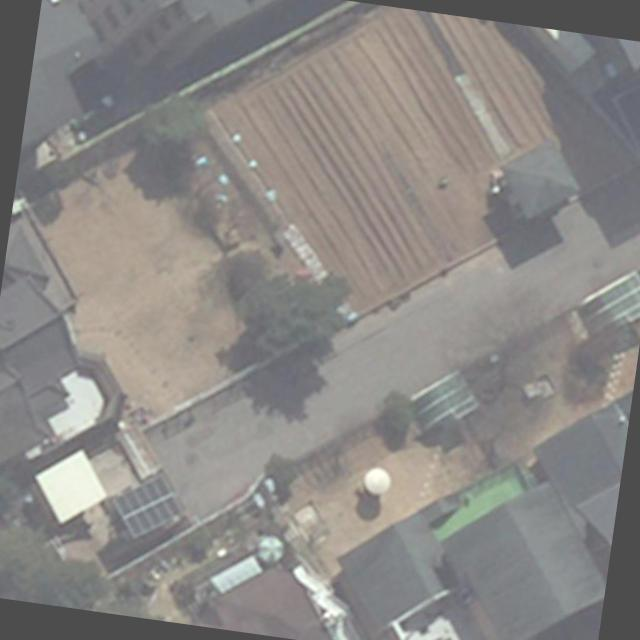solar: (105, 465, 192, 550)
